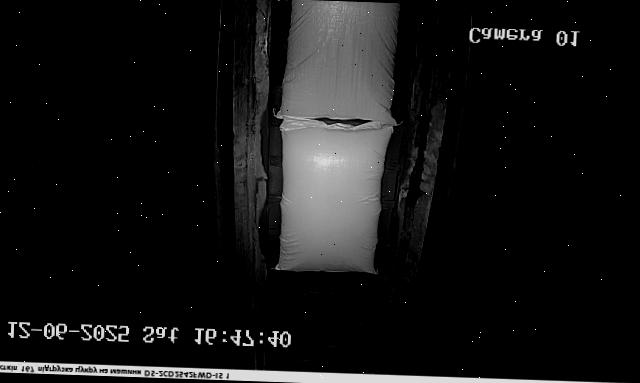bag: (276, 117, 394, 275), (276, 0, 401, 123)
